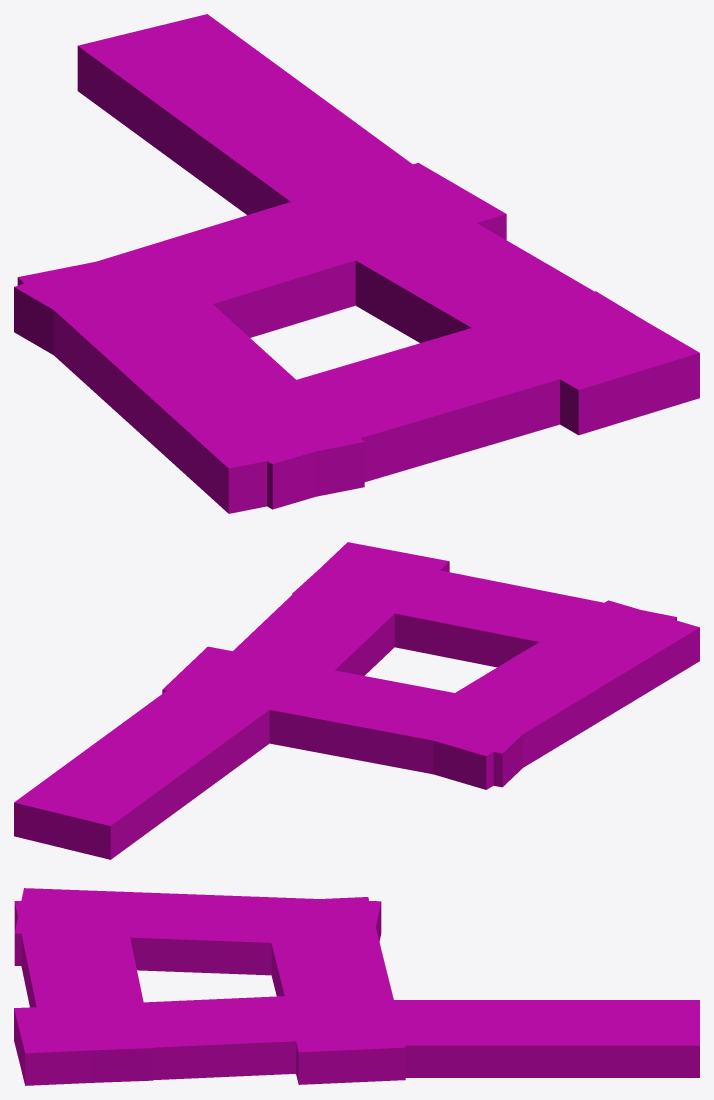
Rendered from Pink_Key.glb.
3 renders of one model, top to bottom at view 1: azimuth 30°, elevation 25°; view 2: azimuth 150°, elevation 25°; view 3: azimuth 270°, elevation 25°, orthographic. The views are drawn at different scales.
Parts seen in each view (by area): view 1: Cube copy (×2), Cube, Cube copy copy copy, Cube copy copy; view 2: Cube copy (×2), Cube copy copy copy, Cube, Cube copy copy; view 3: Cube copy (×2), Cube copy copy copy, Cube, Cube copy copy.
Boxes of the visible parts, x1,y1,x2,y2 form: Cube copy (×2): (14,162,699,435); Cube: (17,257,364,513); Cube copy copy copy: (77,14,456,228); Cube copy copy: (187,291,635,509); Cube copy (×2): (162,542,522,787); Cube copy copy copy: (14,666,296,859); Cube: (395,600,699,789); Cube copy copy: (292,550,676,667); Cube copy (×2): (14,897,405,1085); Cube copy copy copy: (341,1000,699,1077); Cube: (14,888,381,975); Cube copy copy: (14,897,152,1082).
Bounding box in the file's own units: 0.5452 × 0.05 × 0.9565.
